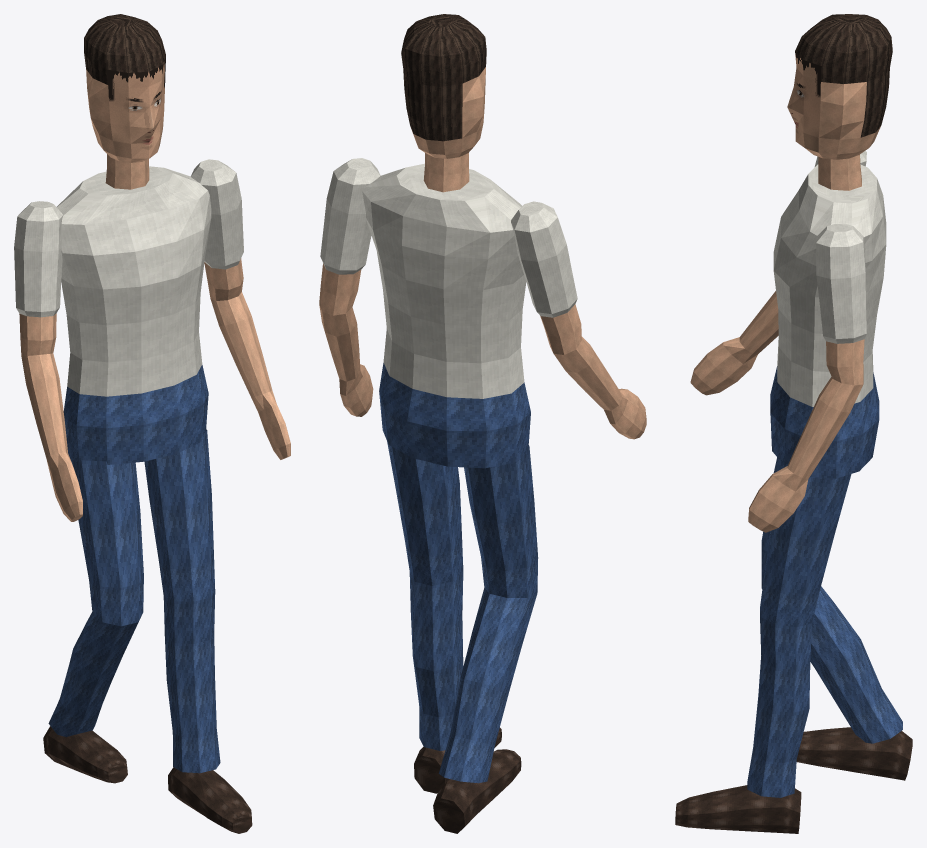
Rendered from walk_10.obj.
3 renders of one model, left to right at view 1: azimuth 30°, elevation 25°; view 2: azimuth 150°, elevation 25°; view 3: azimuth 270°, elevation 25°, orthographic. The views are drawn at different scales.
Size of the model in its own units: 0.6293 by 1.84 by 0.4998.
25 materials, 25 textured.
